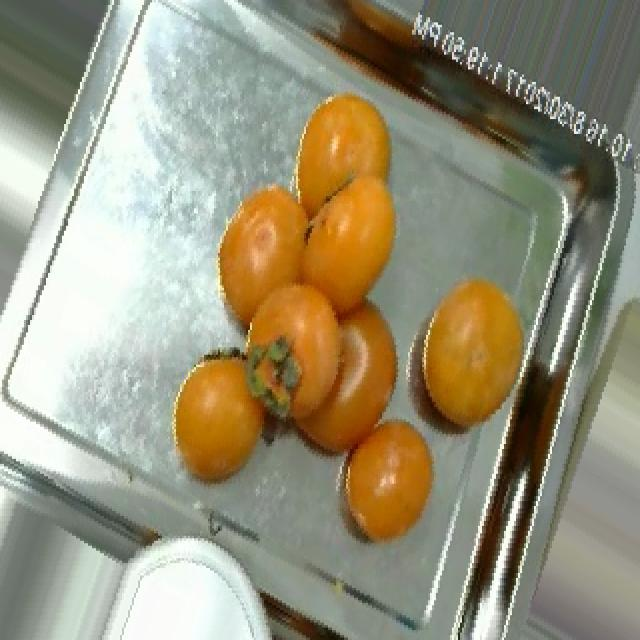Fruit: (392, 253, 542, 469), (276, 72, 418, 283), (154, 330, 294, 511), (320, 397, 462, 565)
